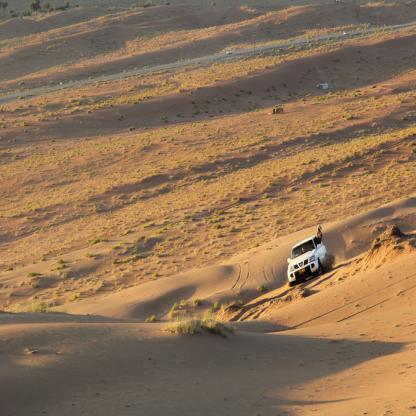Car: (288, 236, 328, 288)
